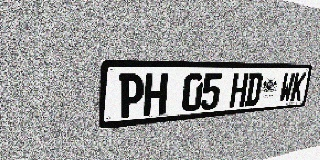0: (181, 73, 204, 112)
5: (200, 73, 222, 111)
D: (244, 73, 263, 106)
H: (143, 73, 168, 116), (229, 73, 249, 108)
K: (290, 73, 306, 102)
P: (118, 74, 145, 119)
W: (278, 73, 295, 103)
